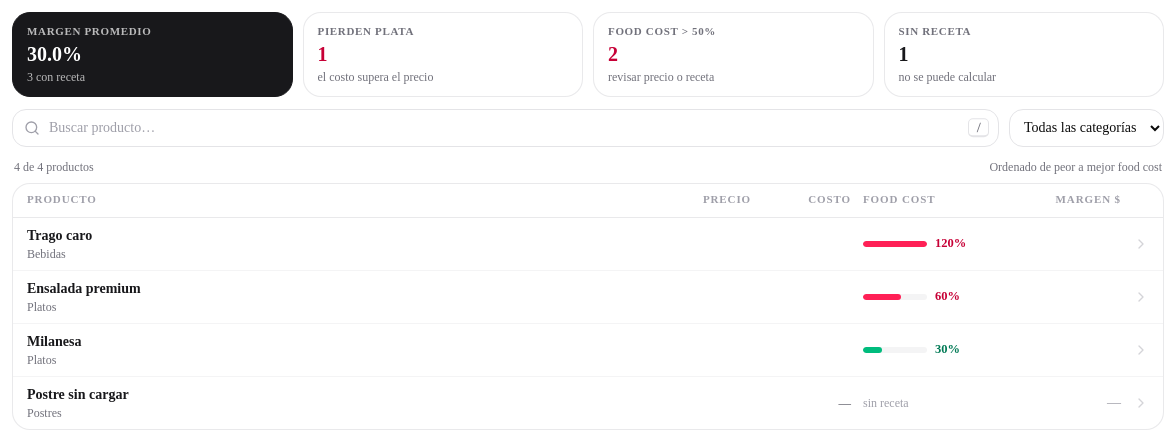
it: CosteoTab (spec 205 · D11) › KPI «Pierden plata» filtra a margen negativo
Click the button "Pierden plata 1 el costo supera el precio" at (366, 31), box [302, 12, 583, 96]
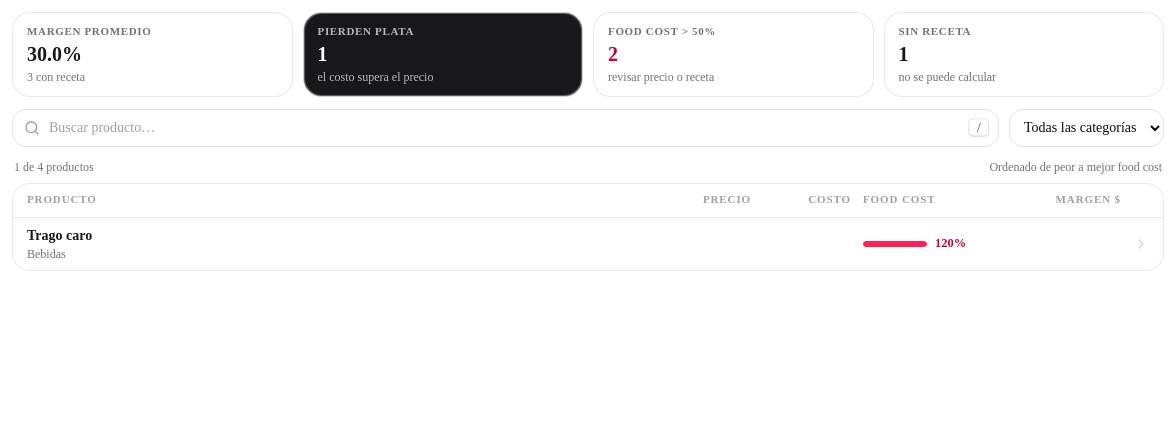
Expected: the text "Trago caro" is shown, [27, 228, 92, 242]
Expected: the text "Milanesa" is gone
Expected: the text "Ensalada premium" is gone
